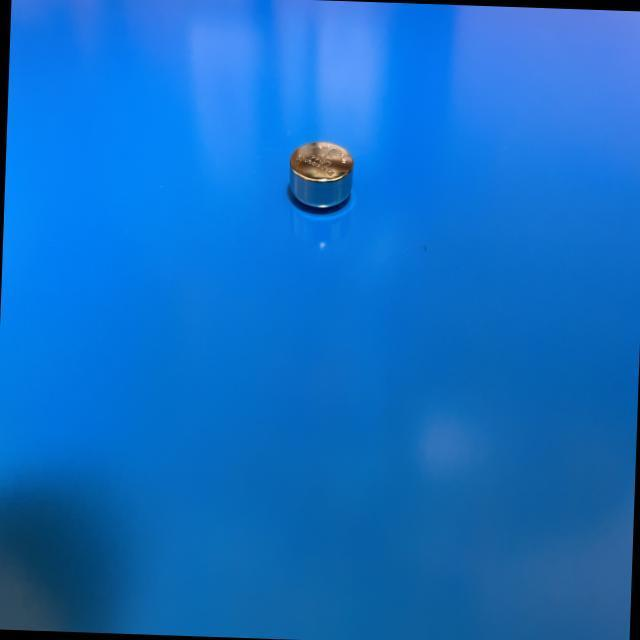COIN: (286, 142, 354, 210)
